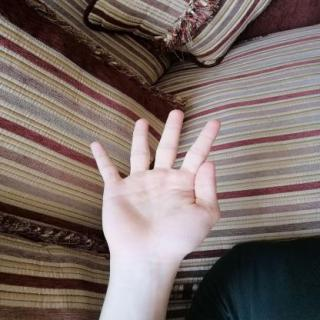SHEEN: (78, 104, 232, 272)
